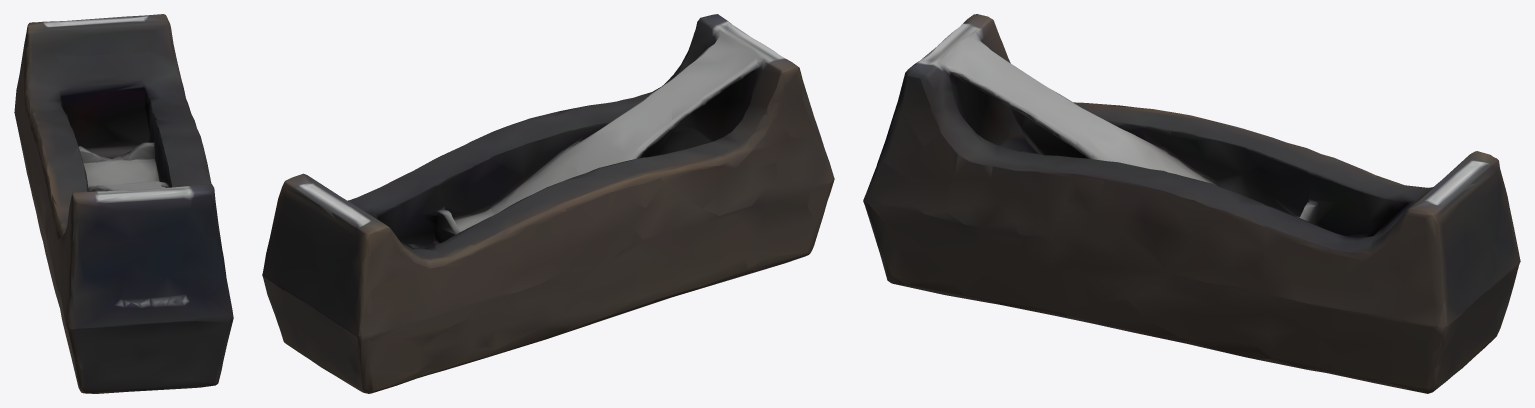
File: 0010_mask_011_tape_dispenser.glb
3 views of the same model, side by side, from view 1: azimuth 30°, elevation 25°; view 2: azimuth 150°, elevation 25°; view 3: azimuth 270°, elevation 25° (orthographic). The views are drawn at different scales.
Parts seen in each view (by area): view 1: mask_011_object; view 2: mask_011_object; view 3: mask_011_object.
Part boxes in pixels (<box>): mask_011_object: <box>14,14,233,393</box>; mask_011_object: <box>262,14,834,393</box>; mask_011_object: <box>863,14,1520,393</box>.
Size of the model in its own units: 0.1415 by 0.081 by 0.2139.
